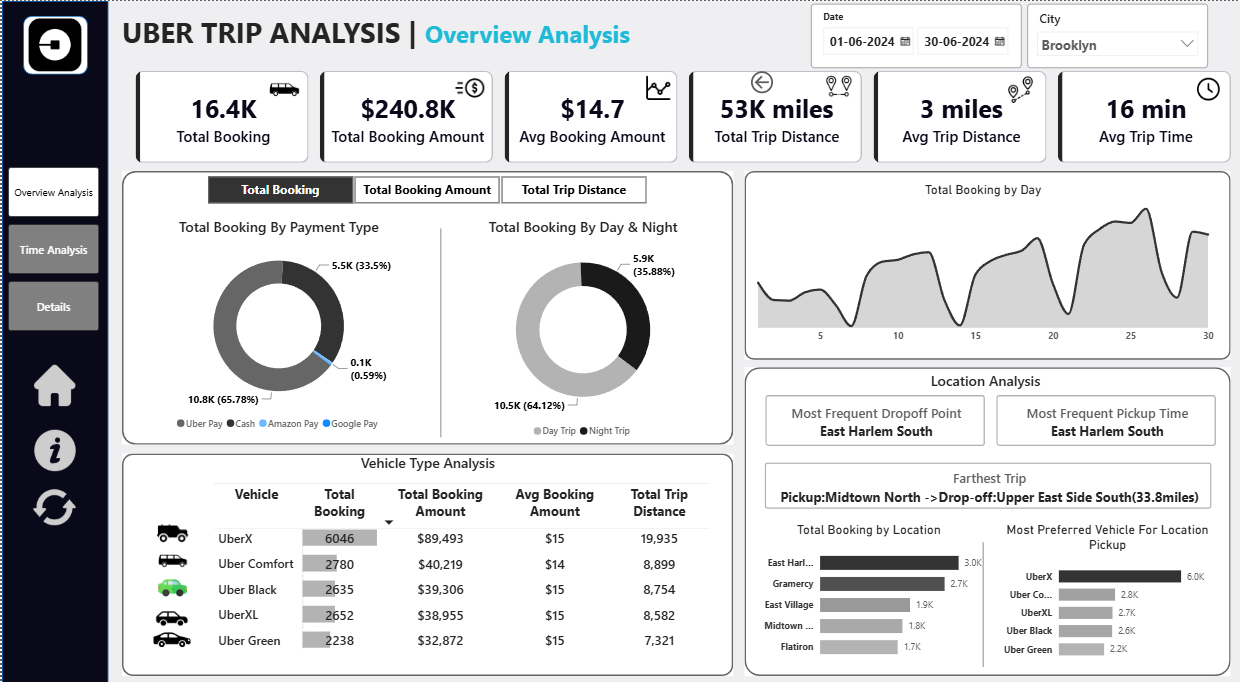

This screenshot's page, from the dashboard's own definition file:
{"tool":"powerbi","page":{"name":"Overview Analysis","canvas":[1650,910],"ordinal":0},"visuals":[{"type":"shape","box":[160,226.7,815,365],"z":0},{"type":"shape","box":[0,0,141.7,910],"z":1000},{"type":"textbox","box":[155,11.7,701.7,70],"z":2000},{"type":"cardVisual","fields":{"Data":["Uber Trip Details .Total Booking","Uber Trip Details .Total Booking Amount","Uber Trip Details .Avg Booking Amount","Uber Trip Details .Total Trip Distance","Uber Trip Details .Avg Trip Distance","Uber Trip Details .Avg Trip Time"]},"box":[171.7,86.7,1478.3,135],"z":3000},{"type":"image","box":[596.7,96.7,55,38.3],"z":4000},{"type":"image","box":[1593.3,98.3,30,38.3],"z":5000},{"type":"image","box":[1096.7,96.7,38.3,33.3],"z":6000},{"type":"image","box":[1341.7,96.7,35,43.3],"z":7000},{"type":"image","box":[856.7,96.7,36.7,38.3],"z":8000},{"type":"image","box":[348.3,96.7,56.7,43.3],"z":9000},{"type":"slicer","fields":{"Values":["dynamic parameters.dynamic parameters"]},"box":[248.3,226.7,635,50],"z":10000},{"type":"donutChart","title":"Total Booking By Payment Type","fields":{"Y":["Uber Trip Details .Total Booking"],"Category":["Uber Trip Details .Payment_type"]},"box":[171.7,288.3,395,293.3],"z":11000},{"type":"donutChart","title":"Total Booking By Day & Night","fields":{"Y":["Uber Trip Details .Total Booking"],"Category":["Uber Trip Details .Trip (Day/Night)"]},"box":[585,288.3,380,303.3],"z":12000},{"type":"shape","box":[160,603.3,815,296.7],"z":13000},{"type":"pivotTable","fields":{"Rows":["Uber Trip Details .Vehicle"],"Values":["Uber Trip Details .Total Booking","Uber Trip Details .Total Booking Amount","Uber Trip Details .Avg Booking Amount","Uber Trip Details .Total Trip Distance measure"]},"box":[278.3,638.3,690,250],"z":14000},{"type":"image","box":[206.7,763.3,41.7,38.3],"z":15000},{"type":"image","box":[206.7,721.7,41.7,50],"z":16000},{"type":"image","box":[189.2,823.3,76.7,56.7],"z":17000},{"type":"image","box":[206.7,685,41.7,50],"z":18000},{"type":"image","box":[204.2,801.7,46.7,43.3],"z":19000},{"type":"textbox","box":[473.3,598.3,190,41.7],"z":20000},{"type":"shape","box":[990,226.7,648.3,251.7],"z":21000},{"type":"shape","box":[990,488.3,648.3,411.7],"z":22000},{"type":"areaChart","fields":{"Category":["Calender Table.Date.Variation.Date Hierarchy.Day"],"Y":["Uber Trip Details .Total Booking"]},"box":[993.3,241.7,630,223.3],"z":23000},{"type":"cardVisual","fields":{"Data":["Uber Trip Details .Most Frequent Dropoff Point","Uber Trip Details .Most Frequent Pickup Time"]},"box":[1003.3,513.3,630,95],"z":24000},{"type":"cardVisual","fields":{"Data":["Uber Trip Details .Farthest Trip"]},"box":[1000,598.3,630,96.7],"z":25000},{"type":"barChart","fields":{"Category":["Location Table.Location"],"Y":["Uber Trip Details .Total Booking"]},"box":[1000,695,311.7,193.3],"z":26000},{"type":"barChart","title":"Most Preferred Vehicle For Location Pickup","fields":{"Category":["Uber Trip Details .Vehicle"],"Y":["CountNonNull(Uber Trip Details .PULocationID)"]},"box":[1318.3,695,311.7,193.3],"z":27000},{"type":"shape","box":[516.7,303.3,136.7,278.3],"z":28000},{"type":"shape","box":[1240,721.7,136.7,166.7],"z":29000},{"type":"textbox","box":[1233.3,488.3,163.3,50],"z":30000},{"type":"slicer","fields":{"Values":["Calender Table.Date"]},"box":[1078.3,3.3,281.7,86.7],"z":31000},{"type":"slicer","fields":{"Values":["Location Table.City"]},"box":[1366.7,3.3,241.7,86.7],"z":32000},{"type":"actionButton","box":[993.3,88.3,100,40],"z":33000},{"type":"group","id":"g1","title":"Group 1","box":[26.7,20,88.3,78],"z":34000},{"type":"shape","box":[28.4,20,86,78],"z":34000,"group":"g1"},{"type":"image","box":[26.7,23.3,88.3,70],"z":35000,"group":"g1"},{"type":"pageNavigator","box":[8.3,221.7,121.7,218.3],"z":35000},{"type":"image","box":[16.5,571.7,108.3,55],"z":36000},{"type":"image","box":[20.6,646.7,100,56.7],"z":37000},{"type":"image","box":[27.3,485,86.7,55],"z":38000}]}

Visuals, with their boxes on the page's 1650x910 design canvas (x1, y1, x2, y2). These are canvas units, not pixel positions in the 1240x682 screenshot, which may show the page scaled, cropped or inside an application window:
shape: rect(160, 227, 975, 592)
shape: rect(0, 0, 142, 910)
textbox: rect(155, 12, 857, 82)
cardVisual - Uber Trip Details .Total Booking x Uber Trip Details .Total Booking Amount: rect(172, 87, 1650, 222)
image: rect(597, 97, 652, 135)
image: rect(1593, 98, 1623, 137)
image: rect(1097, 97, 1135, 130)
image: rect(1342, 97, 1377, 140)
image: rect(857, 97, 893, 135)
image: rect(348, 97, 405, 140)
slicer - dynamic parameters.dynamic parameters: rect(248, 227, 883, 277)
"Total Booking By Payment Type" donutChart: rect(172, 288, 567, 582)
"Total Booking By Day & Night" donutChart: rect(585, 288, 965, 592)
shape: rect(160, 603, 975, 900)
pivotTable - Uber Trip Details .Vehicle x Uber Trip Details .Total Booking: rect(278, 638, 968, 888)
image: rect(207, 763, 248, 802)
image: rect(207, 722, 248, 772)
image: rect(189, 823, 266, 880)
image: rect(207, 685, 248, 735)
image: rect(204, 802, 251, 845)
textbox: rect(473, 598, 663, 640)
shape: rect(990, 227, 1638, 478)
shape: rect(990, 488, 1638, 900)
areaChart - Calender Table.Date.Variation.Date Hierarchy.Day x Uber Trip Details .Total Booking: rect(993, 242, 1623, 465)
cardVisual - Uber Trip Details .Most Frequent Dropoff Point x Uber Trip Details .Most Frequent Pickup Time: rect(1003, 513, 1633, 608)
cardVisual - Uber Trip Details .Farthest Trip: rect(1000, 598, 1630, 695)
barChart - Location Table.Location x Uber Trip Details .Total Booking: rect(1000, 695, 1312, 888)
"Most Preferred Vehicle For Location Pickup" barChart: rect(1318, 695, 1630, 888)
shape: rect(517, 303, 653, 582)
shape: rect(1240, 722, 1377, 888)
textbox: rect(1233, 488, 1397, 538)
slicer - Calender Table.Date: rect(1078, 3, 1360, 90)
slicer - Location Table.City: rect(1367, 3, 1608, 90)
actionButton: rect(993, 88, 1093, 128)
"Group 1" group: rect(27, 20, 115, 98)
shape: rect(28, 20, 114, 98)
image: rect(27, 23, 115, 93)
pageNavigator: rect(8, 222, 130, 440)
image: rect(16, 572, 125, 627)
image: rect(21, 647, 121, 703)
image: rect(27, 485, 114, 540)
